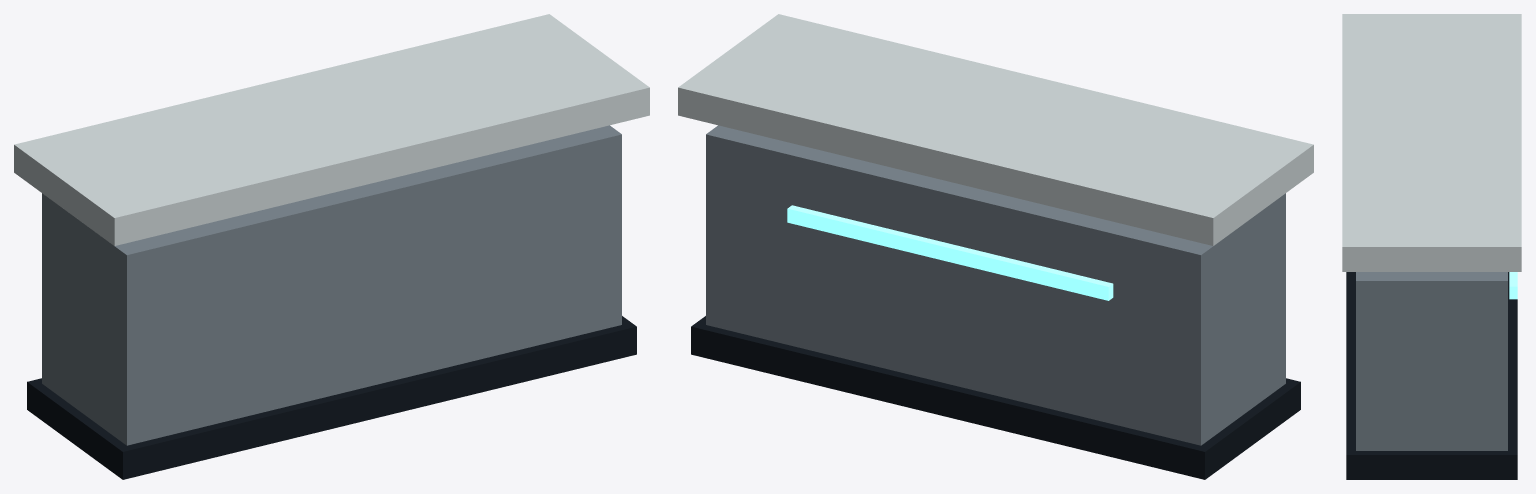
The model's file is np_z03_synthese_paillasse.glb.
The picture shows the model from 3 angles, left to right: view 1: azimuth 30°, elevation 25°; view 2: azimuth 150°, elevation 25°; view 3: azimuth 270°, elevation 25°; orthographic projection. The views are drawn at different scales.
Parts seen in each view (by area): view 1: Corps, Plan, Socle; view 2: Corps, Plan, Socle, Bandeau; view 3: Plan, Corps, Socle, Bandeau.
Part boxes in pixels (x1=…): Corps: x1=42, y1=125, x2=621, y2=445; Plan: x1=14, y1=14, x2=649, y2=245; Socle: x1=27, y1=316, x2=636, y2=479; Corps: x1=706, y1=125, x2=1285, y2=445; Plan: x1=678, y1=14, x2=1313, y2=245; Socle: x1=691, y1=316, x2=1300, y2=479; Bandeau: x1=787, y1=205, x2=1113, y2=300; Plan: x1=1342, y1=14, x2=1521, y2=271; Corps: x1=1356, y1=272, x2=1507, y2=450; Socle: x1=1346, y1=272, x2=1517, y2=479; Bandeau: x1=1509, y1=272, x2=1517, y2=299.
Bounding box in the file's own units: 2 × 0.95 × 0.65.
